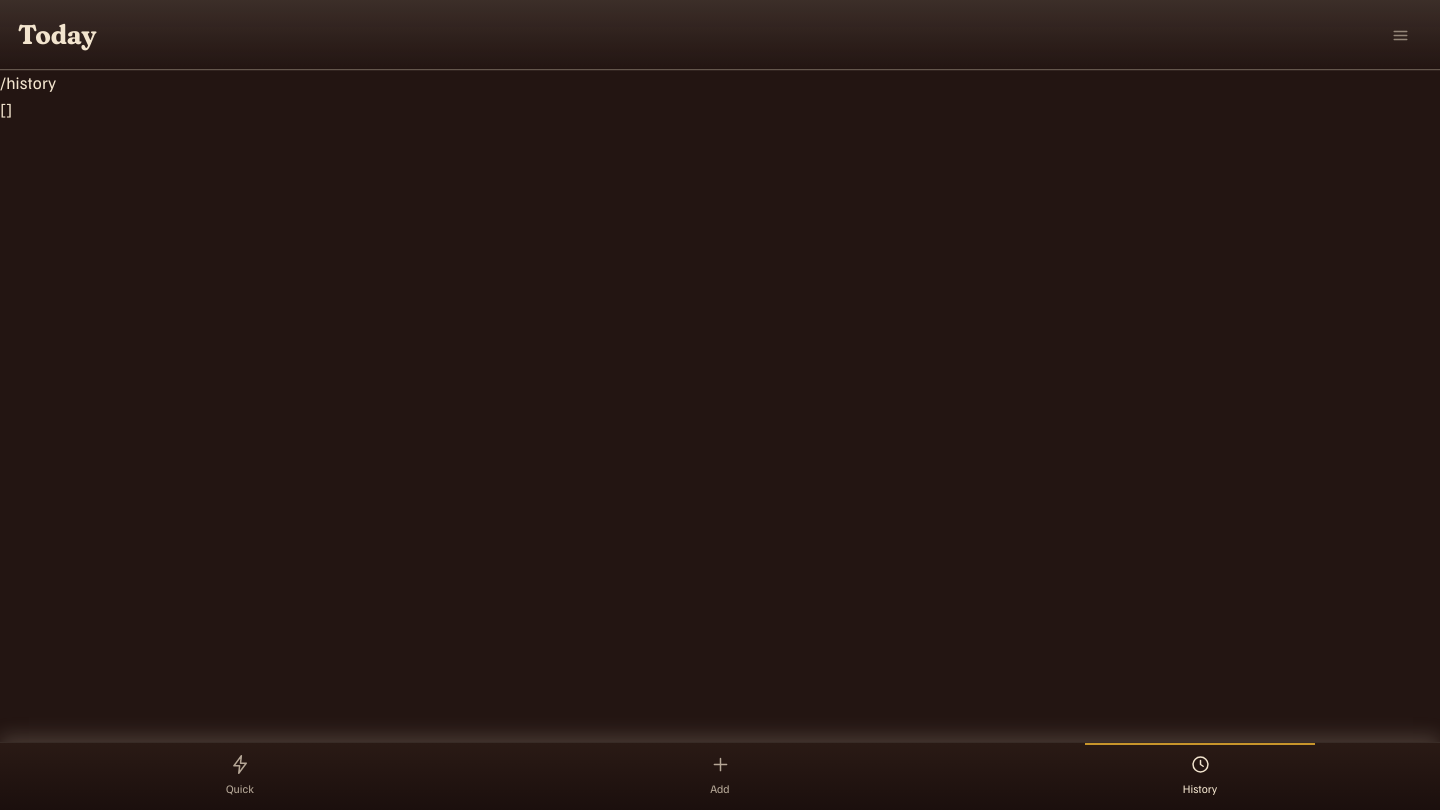
Test: AppFrame › opens the add sheet directly on the alcohol-type creation panel
Click the button named "Open menu" at (1400, 35), box left=1378, top=13, right=1422, bottom=57
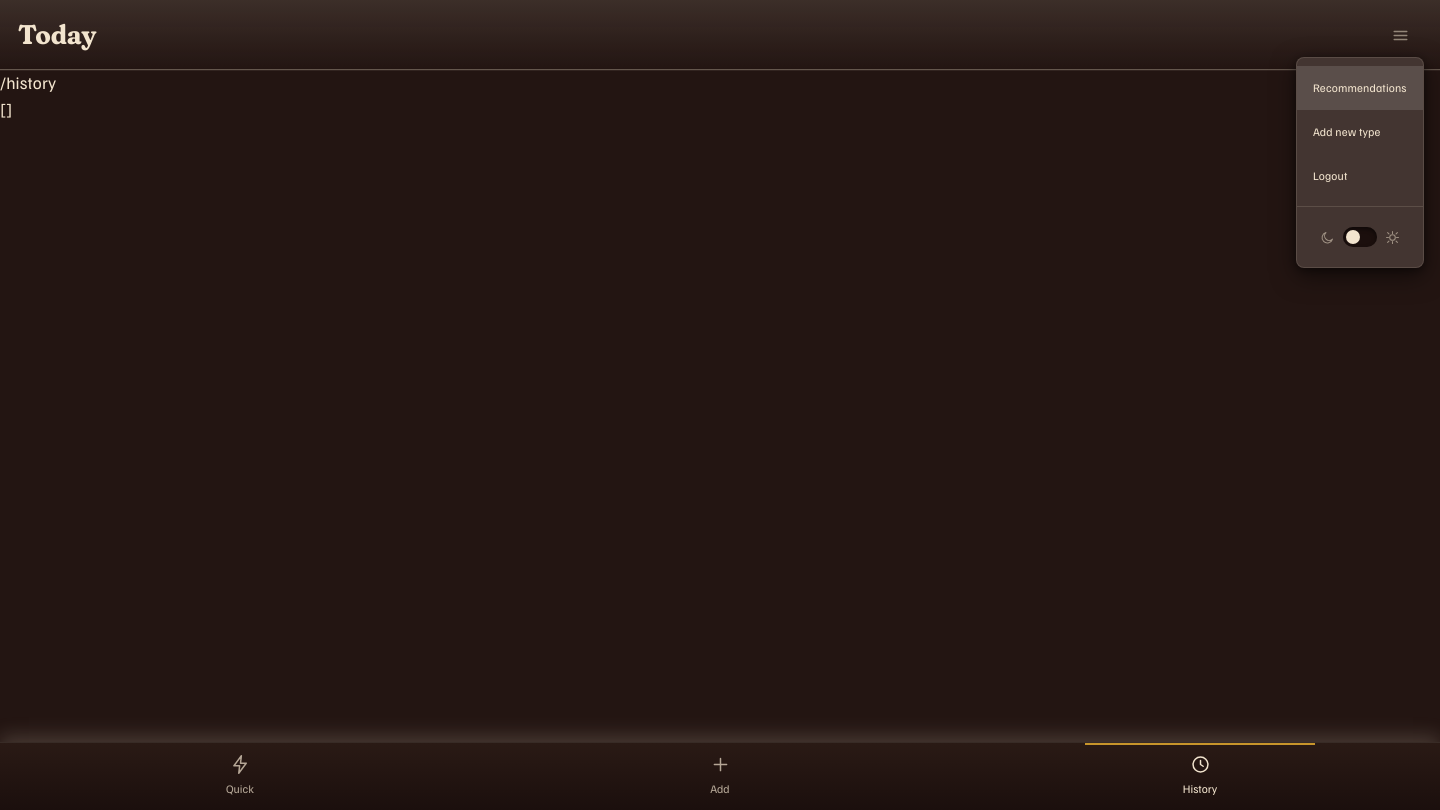
Click the menu item "Add new type" at (1347, 132), box left=1313, top=124, right=1381, bottom=139
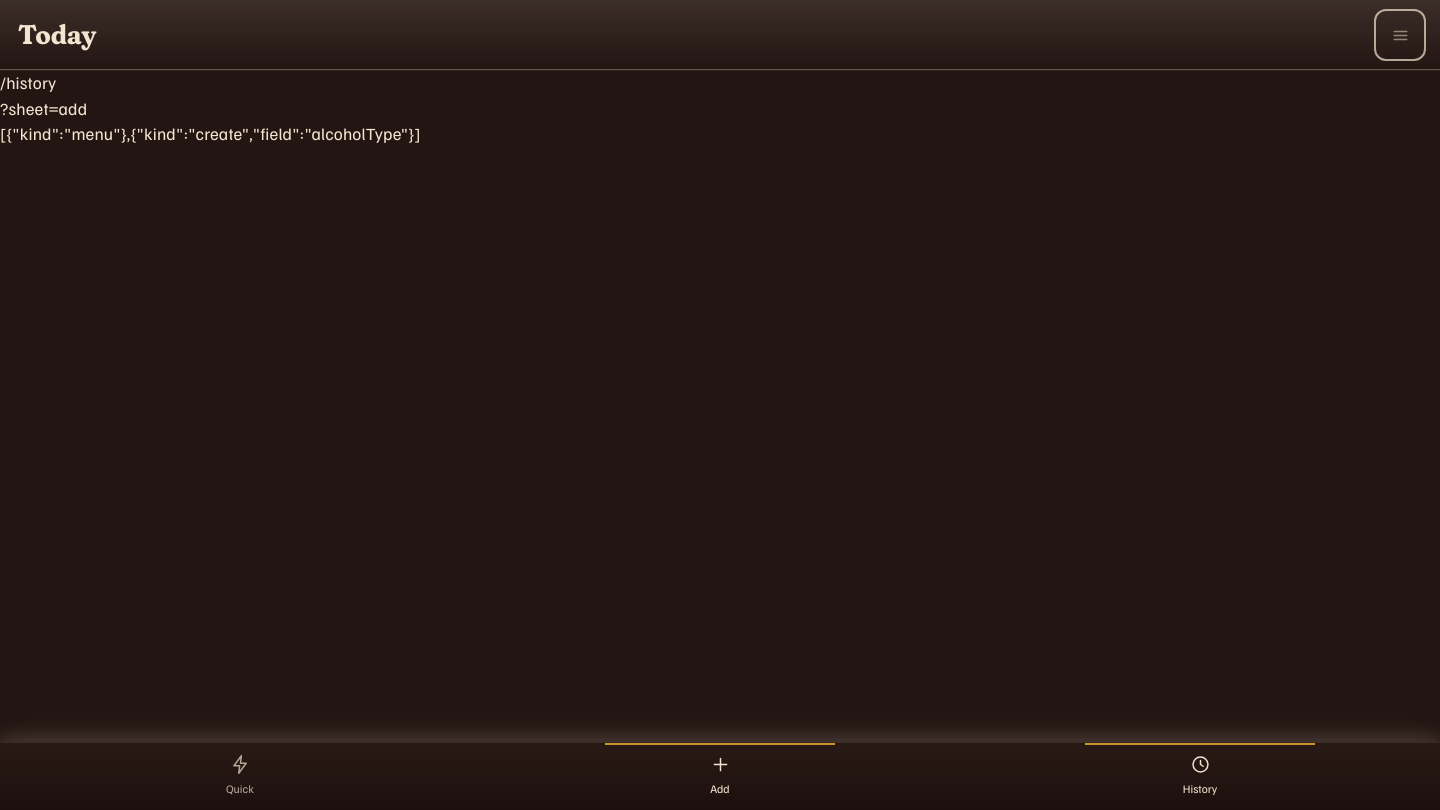
Expected: the text with test id "search" reads "?sheet=add", left=0, top=97, right=87, bottom=119
Expected: the text with test id "add-sheet-panels" reads "[{\"kind\":\"menu\"},{\"kind\":\"create\",\"field\":\"alcoholType\"}]", left=0, top=122, right=421, bottom=144
Expected: the menu is gone
